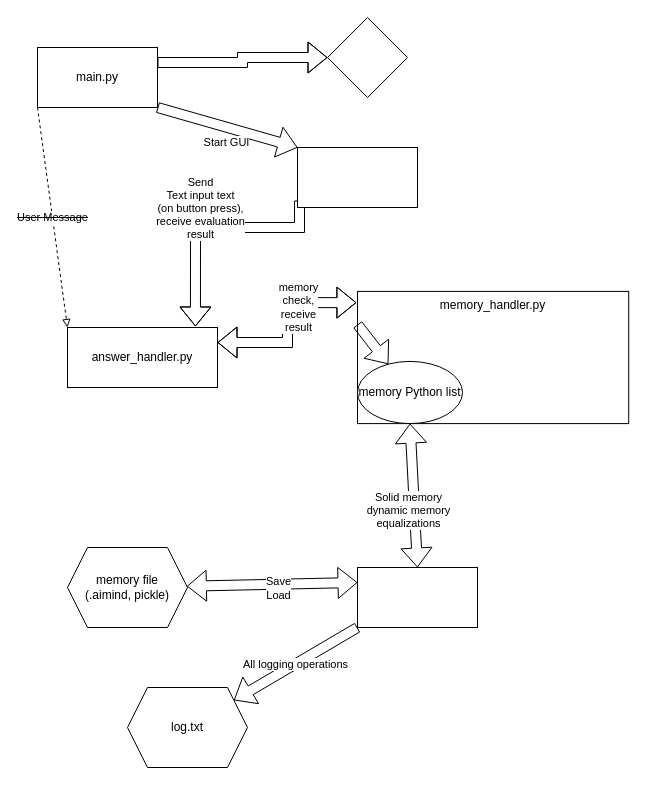
The diagram is 647 pixels wide and 785 high, and some of its shapes have lost their labels. Here are the shapes that lost their labels. From the top down, the centre of each, then its label:
the point at 367,57: Start logging
the point at 357,177: gui_handler.py
the point at 417,597: file_handler.py
